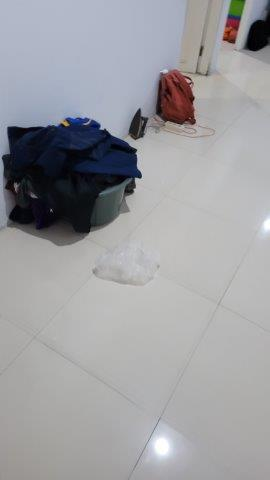plastik: (92, 241, 161, 286)
